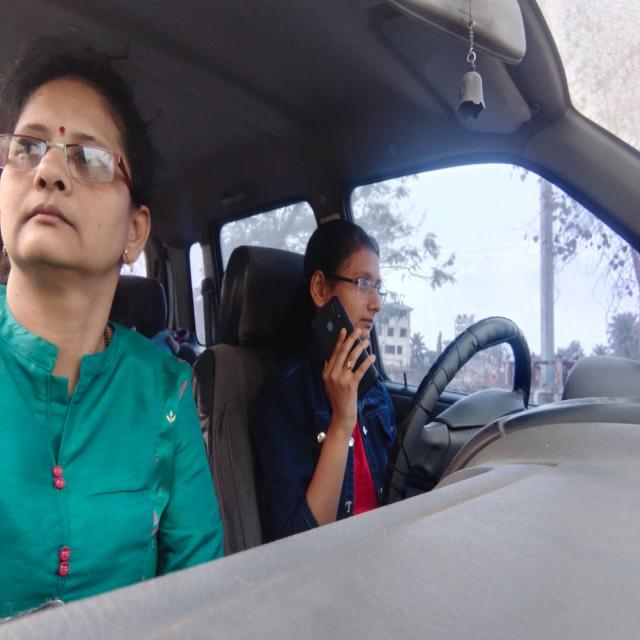mobile: (317, 295, 374, 402)
person: (0, 44, 164, 333), (306, 200, 394, 348)
